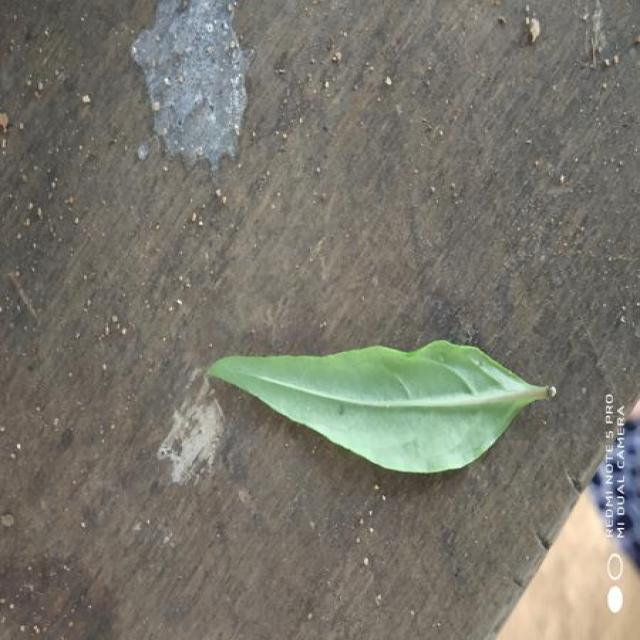Nelavembu: (208, 341, 553, 472)
